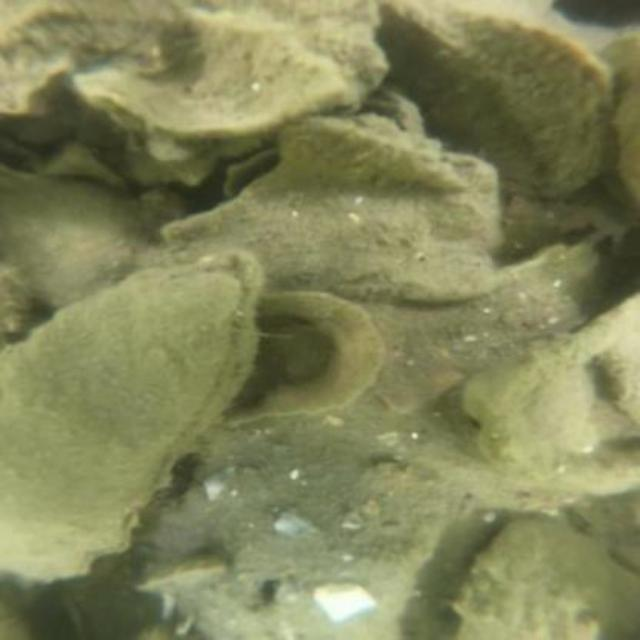Oyster-Closed: (2, 251, 268, 574), (153, 123, 496, 304), (141, 459, 467, 638), (389, 5, 612, 192), (463, 290, 638, 492), (205, 290, 392, 433), (0, 1, 198, 113), (451, 520, 638, 638), (0, 170, 136, 305), (280, 115, 470, 192)
